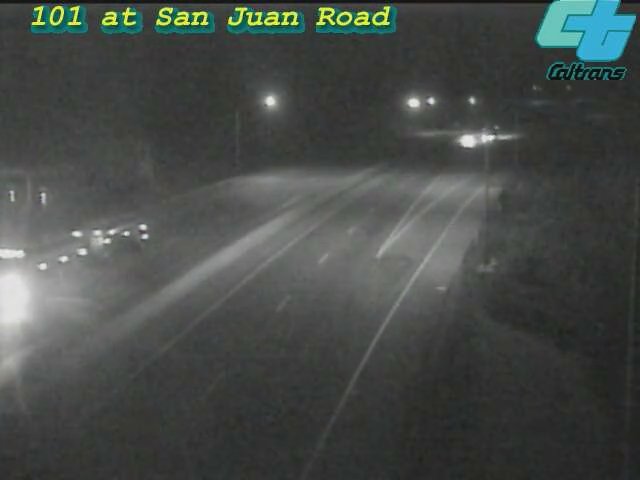vehicle: (4, 236, 84, 316), (470, 107, 520, 157), (447, 114, 497, 164)
